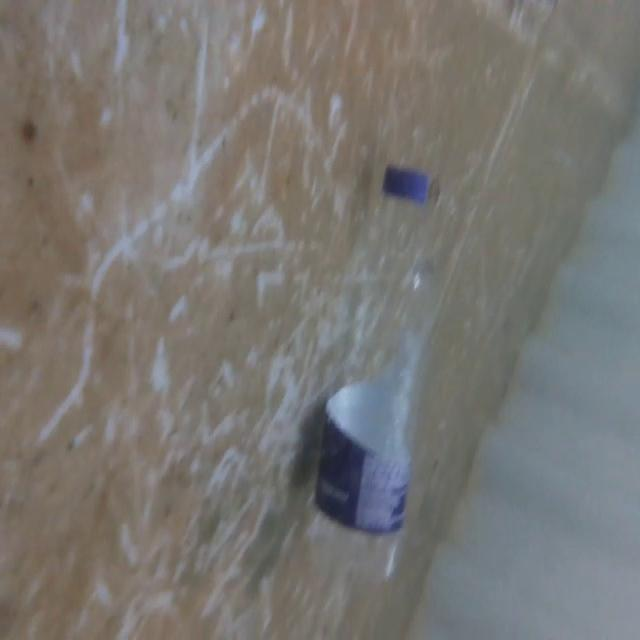plastic bottle: (304, 164, 428, 581)
